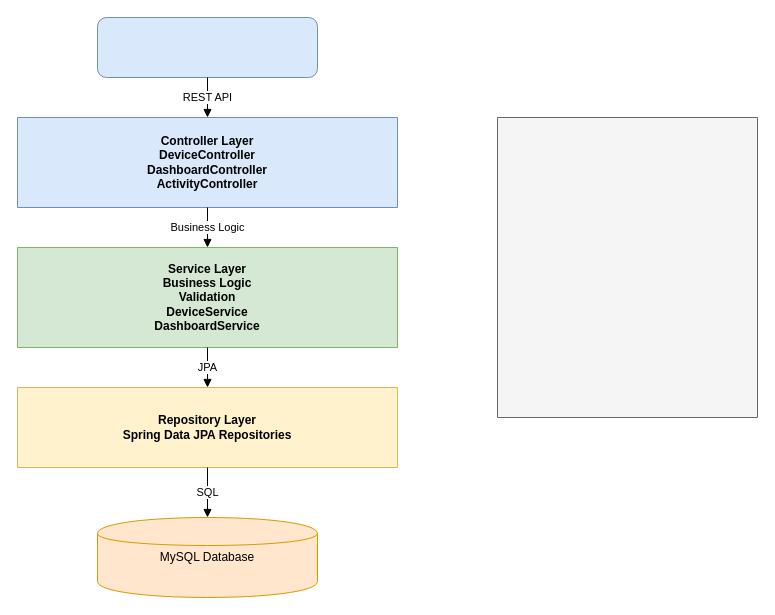
The diagram is 775 pixels wide and 615 high, and some of its shapes have lost their labels. The shapes that lost their labels are listed below. From the top down, each one's centre as x and y in pixels, then its label:
At point (207, 47): "React Dashboard".
At point (627, 267): "Project Packages activity common config dashboard device health sensor".
